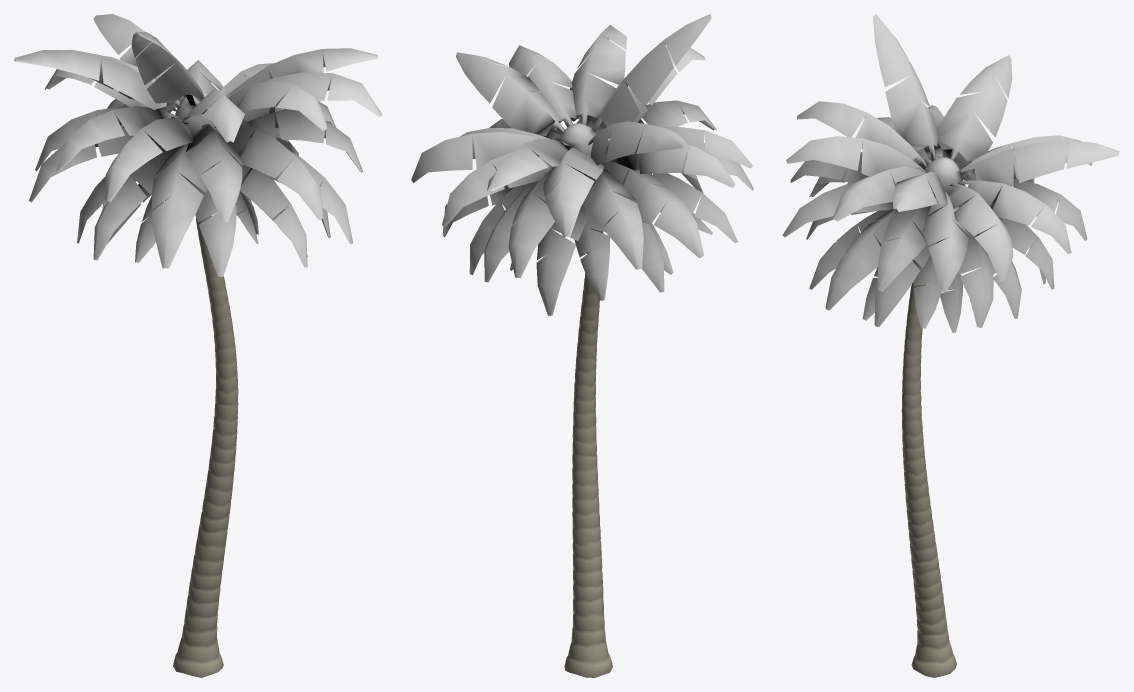
Rendered from ballpit_palmtree_b.fbx.
The picture shows the model from 3 angles, left to right: view 1: azimuth 30°, elevation 25°; view 2: azimuth 150°, elevation 25°; view 3: azimuth 270°, elevation 25°; orthographic projection. The views are drawn at different scales.
Visible parts, largest first — view 1: Palm Tree B; view 2: Palm Tree B; view 3: Palm Tree B.
Boxes of the visible parts, bbox=[...] form: Palm Tree B: bbox=[14, 14, 382, 677]; Palm Tree B: bbox=[411, 14, 753, 677]; Palm Tree B: bbox=[782, 14, 1119, 677].
Size of the model in its own units: 9 by 19.19 by 9.57.
